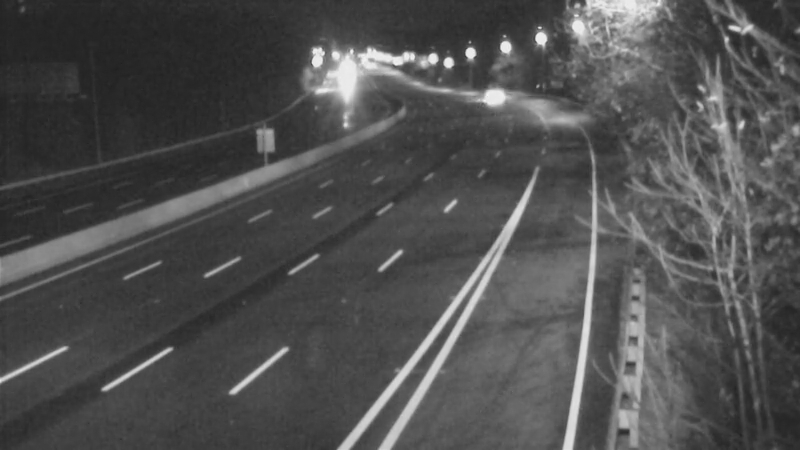vehicle: (458, 69, 508, 119)
